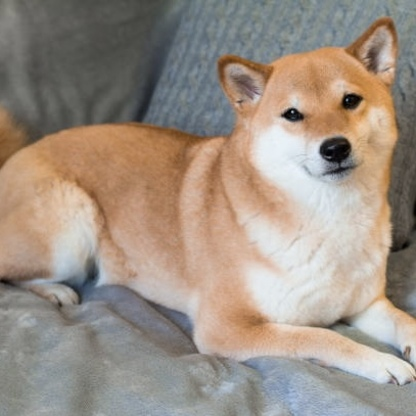shiba: (2, 11, 416, 391)
